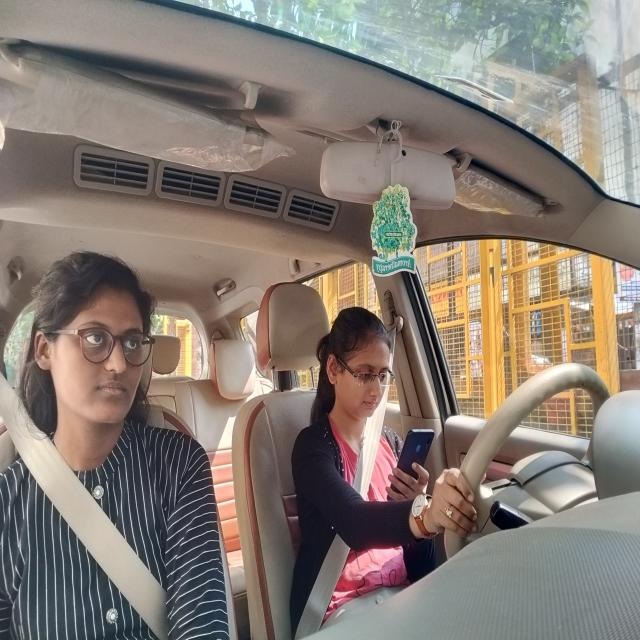mobile: (389, 426, 438, 512)
person: (31, 243, 158, 425), (326, 303, 396, 426)
